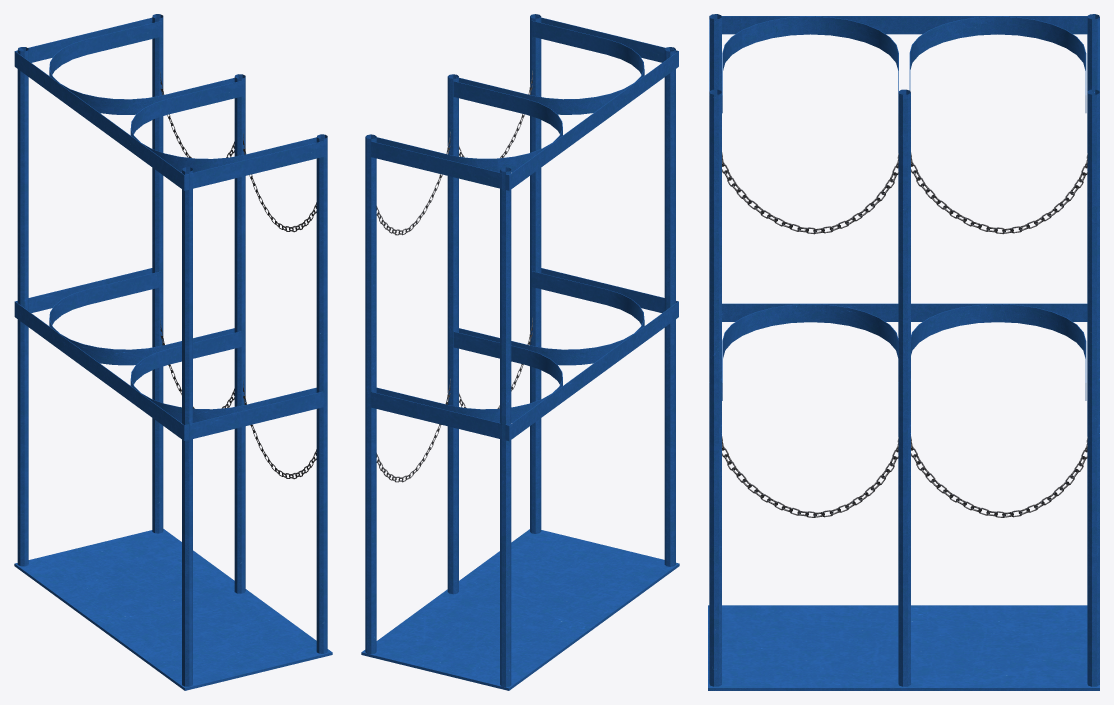
The model's file is SM_乙炔钢瓶架子.fbx.
The picture shows the model from 3 angles, left to right: view 1: azimuth 30°, elevation 25°; view 2: azimuth 150°, elevation 25°; view 3: azimuth 270°, elevation 25°; orthographic projection. The views are drawn at different scales.
Visible parts, largest first — view 1: SM_乙炔钢瓶架子; view 2: SM_乙炔钢瓶架子; view 3: SM_乙炔钢瓶架子.
Boxes of the visible parts, x1,y1,x2,y2 form: SM_乙炔钢瓶架子: (14, 14, 332, 690); SM_乙炔钢瓶架子: (361, 14, 679, 690); SM_乙炔钢瓶架子: (708, 14, 1099, 690).
Bounding box in the file's own units: 0.3 × 1.01 × 0.6.
